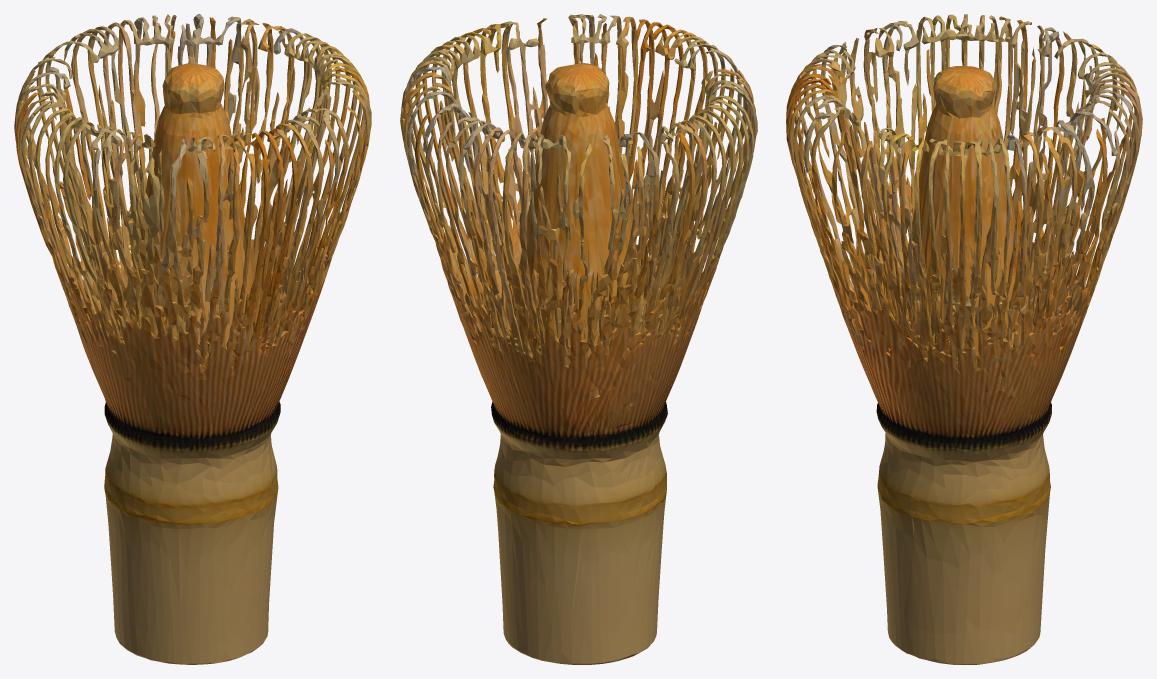
File: chasen.glb
3 views of the same model, side by side, from view 1: azimuth 30°, elevation 25°; view 2: azimuth 150°, elevation 25°; view 3: azimuth 270°, elevation 25° (orthographic).
Visible parts, largest first — view 1: material; view 2: material; view 3: material.
Part boxes in pixels (x1,y1,x2,y2): material: (14,14,371,664); material: (400,14,757,664); material: (786,14,1142,664).
Bounding box in the file's own units: 0.6415 × 1.1 × 0.632.
Materials: 1 (1 with a texture image).
